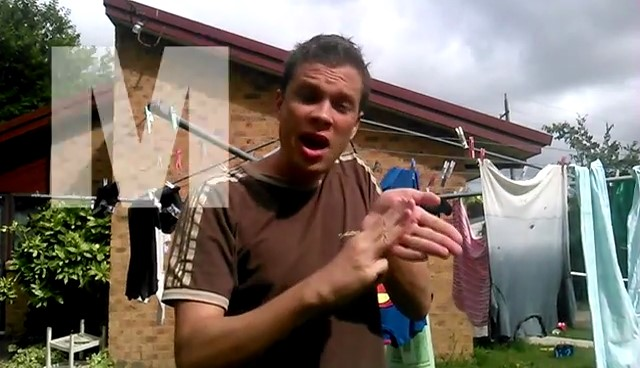M: (299, 182, 465, 310)
